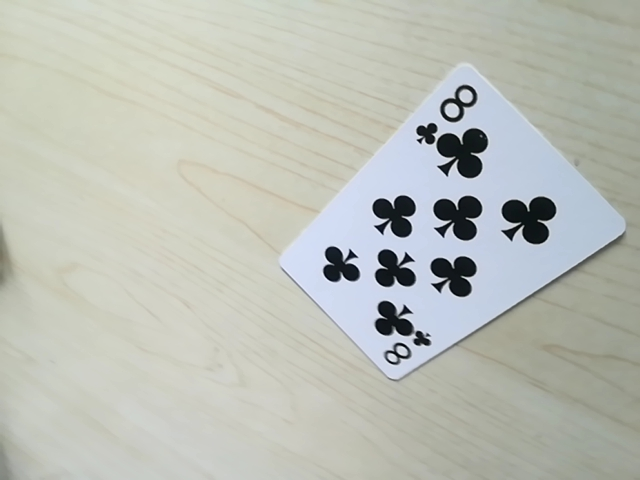mh 8: (413, 77, 487, 137), (370, 326, 436, 375)
